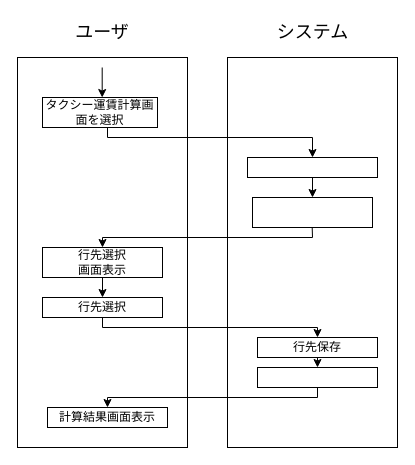
The diagram is 415 pixels wide and 465 high, and some of its shapes have lost their labels. The box of each missing label's shape, as (x1, y1, x2, y2) in pixels:
タクシー運賃ロード: (246, 156, 378, 178)
行先選択 画面生成: (252, 196, 372, 228)
計算結果 画面生成: (256, 366, 378, 388)
